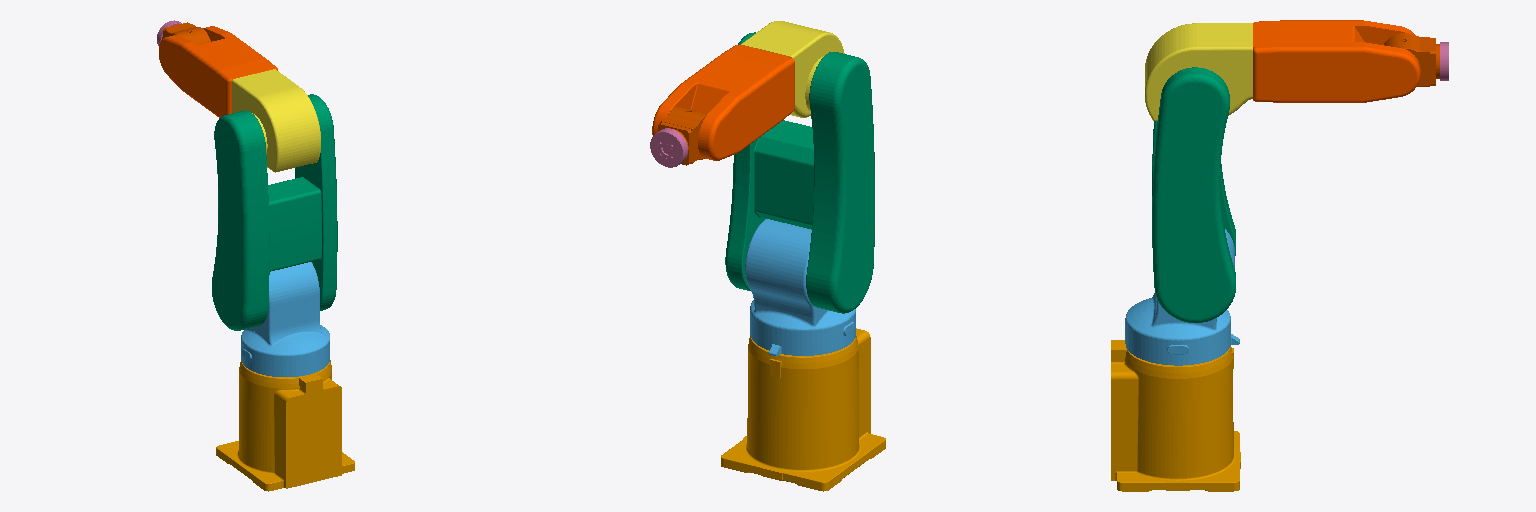
robot.urdf — hiwin_6dot:
<?xml version="1.0" ?>
<robot name="hiwin_6dot">
    <link name="base_link">
        <visual>
            <origin xyz=" 0 0 0" rpy="0 0 0" />
            <geometry>
                <mesh filename="package://hiwin_description/meshes/RA605/RA605_0.stl" scale="0.001 0.001 0.001"/>
            </geometry>
        </visual>
    </link>
    <link name="ra605_1">
        <visual>
            <origin xyz=" 0 0 0" rpy="0 0 0" />
            <geometry>
                <mesh filename="package://hiwin_description/meshes/RA605/RA605_1.stl" scale="0.001 0.001 0.001"/>
            </geometry>
        </visual>
    </link>
    <link name="ra605_2">
        <visual>
            <origin xyz=" 0 -0.0335 0" rpy="0 0 0" />
            <geometry>
                <mesh filename="package://hiwin_description/meshes/RA605/RA605_2.stl" scale="0.001 0.001 0.001"/>
            </geometry>
        </visual>
    </link>
    <link name="ra605_3">
        <visual>
            <origin xyz=" 0 -0.03 -0.35" rpy="0 0 0" />
            <geometry>
                <mesh filename="package://hiwin_description/meshes/RA605/RA605_3.stl" scale="0.001 0.001 0.001"/>
            </geometry>
        </visual>
    </link>
    <link name="ra605_4">
        <visual>
            <origin xyz=" 0 -0.03 -0.38" rpy="0 0 0" />
            <geometry>
                <mesh filename="package://hiwin_description/meshes/RA605/RA605_4.stl" scale="0.001 0.001 0.001"/>
            </geometry>
            <material name="yellow">
                <color rgba="1 0.4 0 1"/>
            </material>
        </visual>
    </link>
    <link name="ra605_5">
        <visual>
            <origin xyz=" 0 -0.365 -0.38" rpy="0 0 0" />
            <geometry>
                <mesh filename="package://hiwin_description/meshes/RA605/RA605_5.stl" scale="0.001 0.001 0.001"/>
            </geometry>
        </visual>
    </link>
    <link name="ra605_6">
        <visual>
            <origin xyz=" 0 -0.45 -0.38" rpy="0 0 0" />
            <geometry>
                <mesh filename="package://hiwin_description/meshes/RA605/RA605_6.stl" scale="0.001 0.001 0.001"/>
            </geometry>
        </visual>
    </link>
    <joint name="j_0001" type="continuous">
        <origin xyz="0 0 0" rpy="0 0 0"/>
        <parent link="base_link"/>
        <child link="ra605_1"/>
        <axis xyz="0 0 1"/>
		  <safety_controller k_velocity="2" k_position="15" soft_lower_limit="1.65" soft_upper_limit="-1.65"/>
		  <calibration falling="0" rising="0"/>
		  <dynamics damping="0" friction="0"/>
	</joint>
    <joint name="j_0102" type="continuous">
        <origin xyz="0 0.033 0.005" rpy="0 0 0"/>
        <parent link="ra605_1"/>
        <child link="ra605_2"/>
        <axis xyz="1 0 0"/>
		  <safety_controller k_velocity="2" k_position="15" soft_lower_limit="-1.25" soft_upper_limit="0.85"/>
		  <calibration falling="0" rising="0"/>
		  <dynamics damping="0" friction="0"/> 
	</joint>
    <joint name="j_0203" type="continuous">
        <origin xyz="0 0 0.35" rpy="0 0 0"/>
        <parent link="ra605_2"/>
        <child link="ra605_3"/>
        <axis xyz="1 0 0"/>
		  <safety_controller k_velocity="2" k_position="15" soft_lower_limit="-0.55" soft_upper_limit="1.85"/>
		  <calibration falling="0" rising="0"/>
		  <dynamics damping="0" friction="0"/> 
	</joint>
    <joint name="j_0304" type="continuous">
        <origin xyz="0 0 0.03" rpy="0 0 0"/>
        <parent link="ra605_3"/>
        <child link="ra605_4"/>
        <axis xyz="0 1 0"/>
		  <safety_controller k_velocity="2" k_position="15" soft_lower_limit="-1.90" soft_upper_limit="1.90"/>
		  <calibration falling="0" rising="0"/>
		  <dynamics damping="0" friction="0"/>
	 </joint>
    <joint name="j_0405" type="continuous">
        <origin xyz="0 0.35 0" rpy="0 0 0"/>
        <parent link="ra605_4"/>
        <child link="ra605_5"/>
        <axis xyz="1 0 0"/>
		  <safety_controller k_velocity="2" k_position="15" soft_lower_limit="-1.15" soft_upper_limit="1.15"/>
		  <calibration falling="0" rising="0"/>
		  <dynamics damping="0" friction="0"/>
	 </joint>
    <joint name="j_0506" type="continuous">
        <origin xyz="0 0.075 0" rpy="0 0 0"/>
        <parent link="ra605_5"/>
        <child link="ra605_6"/>
        <axis xyz="0 1 0"/>
		  <safety_controller k_velocity="2" k_position="15" soft_lower_limit="-3.60" soft_upper_limit="3.60"/>
		  <calibration falling="0" rising="0"/>
		  <dynamics damping="0" friction="0"/>
	 </joint>
</robot>

--- Facts derived from the render (not from the file) ---
The picture shows the robot from 3 angles, left to right: view 1: azimuth 30°, elevation 25°; view 2: azimuth 150°, elevation 25°; view 3: azimuth 270°, elevation 25°; orthographic projection.
Model hiwin_6dot with 7 links and 6 joints (6 continuous), rooted at base_link, posed every joint at zero.
Visible links, largest first — view 1: ra605_2, base_link, ra605_1, ra605_3, ra605_4, ra605_5; view 2: ra605_2, base_link, ra605_4, ra605_1, ra605_3, ra605_5, ra605_6; view 3: ra605_2, base_link, ra605_4, ra605_3, ra605_1, ra605_5.
Boxes of the visible links, left/top/right/bottom form: ra605_2: left=212, top=94, right=337, bottom=330; base_link: left=216, top=360, right=354, bottom=491; ra605_1: left=241, top=262, right=329, bottom=376; ra605_3: left=232, top=69, right=320, bottom=172; ra605_4: left=159, top=26, right=277, bottom=117; ra605_5: left=162, top=22, right=210, bottom=44; ra605_2: left=725, top=32, right=874, bottom=313; base_link: left=721, top=328, right=885, bottom=491; ra605_4: left=652, top=45, right=794, bottom=160; ra605_1: left=745, top=219, right=855, bottom=356; ra605_3: left=741, top=21, right=844, bottom=117; ra605_5: left=658, top=106, right=707, bottom=165; ra605_6: left=650, top=128, right=687, bottom=167; ra605_2: left=1152, top=67, right=1235, bottom=322; base_link: left=1111, top=340, right=1240, bottom=491; ra605_4: left=1253, top=20, right=1420, bottom=102; ra605_3: left=1145, top=23, right=1252, bottom=120; ra605_1: left=1125, top=229, right=1239, bottom=365; ra605_5: left=1384, top=33, right=1439, bottom=86.
Bounding box of the posed robot: 0.227 × 0.5775 × 0.8125 m (x, y, z).
7 mesh visuals loaded from 7 distinct referenced files (7 binary STL).